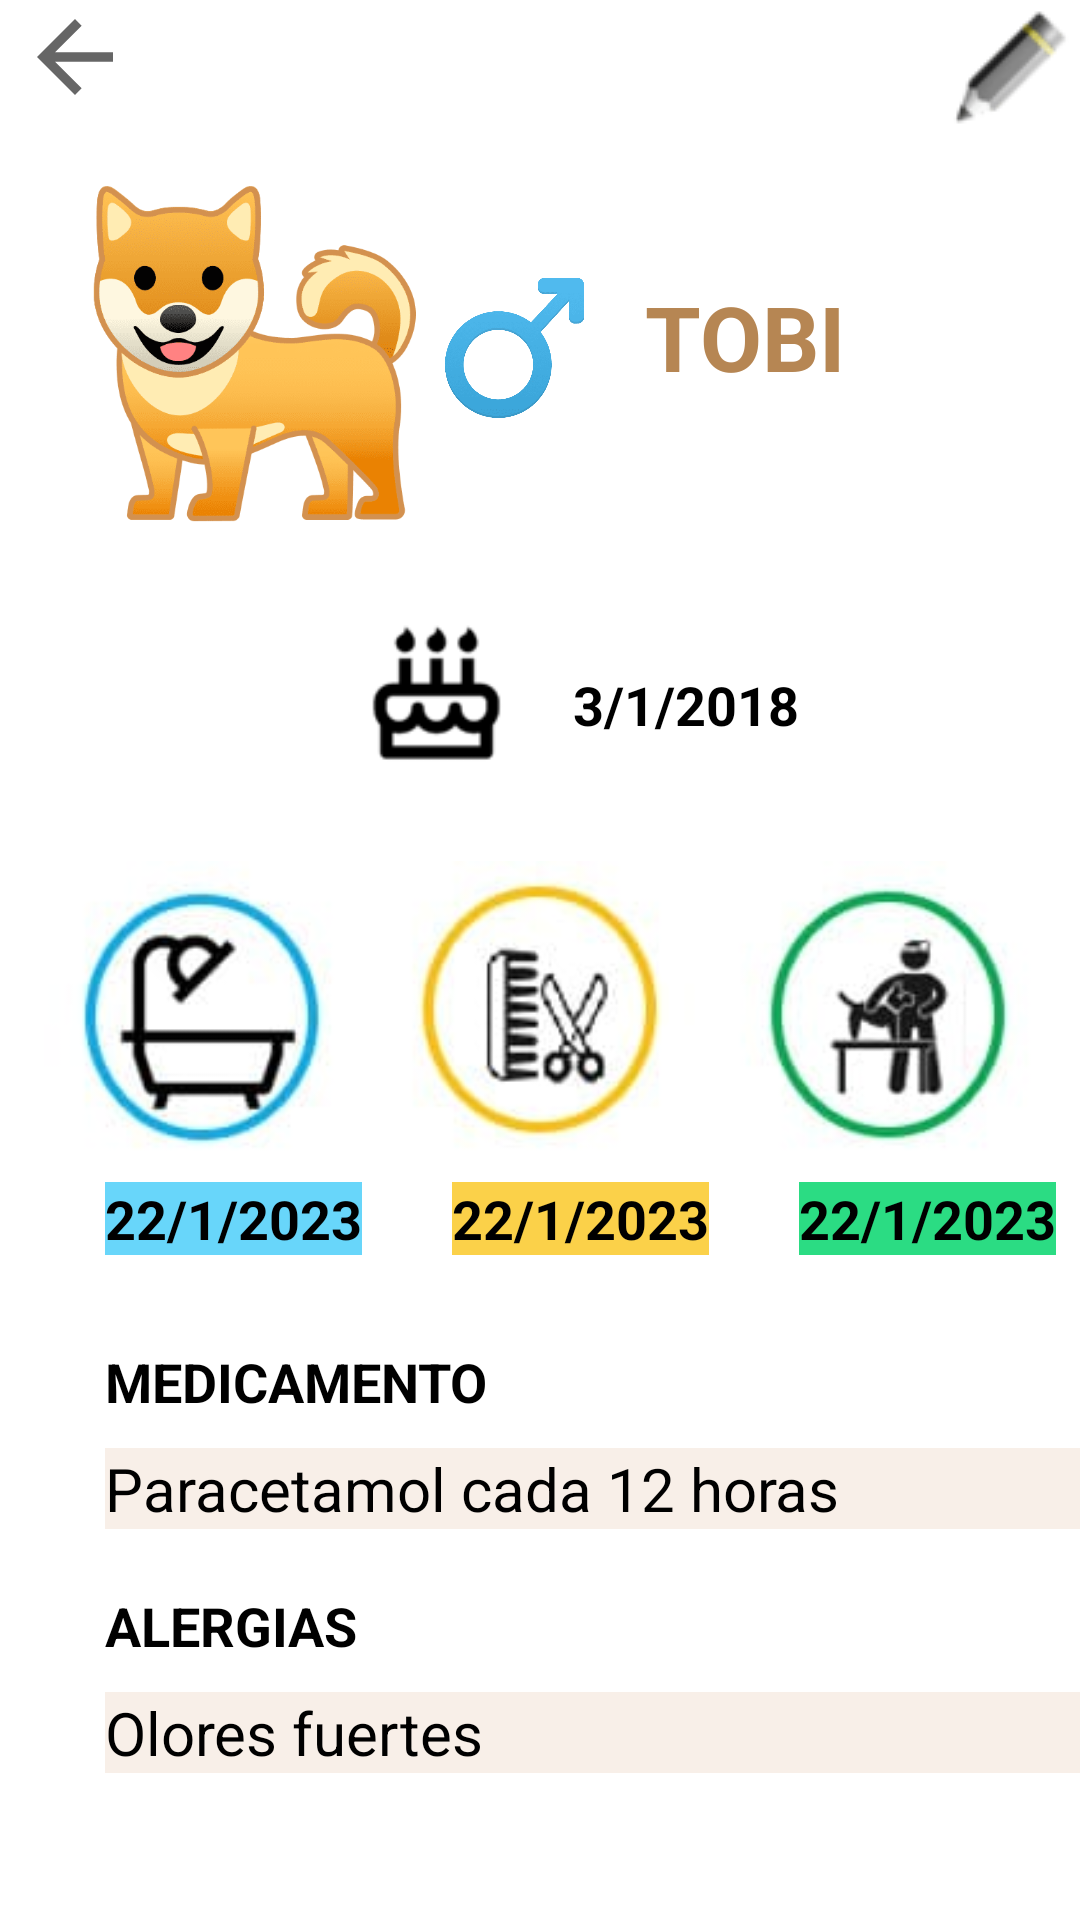

Screen size 1080×1920. Icon name, then its center in pixels as (x=x, y=y):
cumple: (x=436, y=693)
dog: (x=254, y=353)
editar: (x=1010, y=67)
macho: (x=514, y=348)
